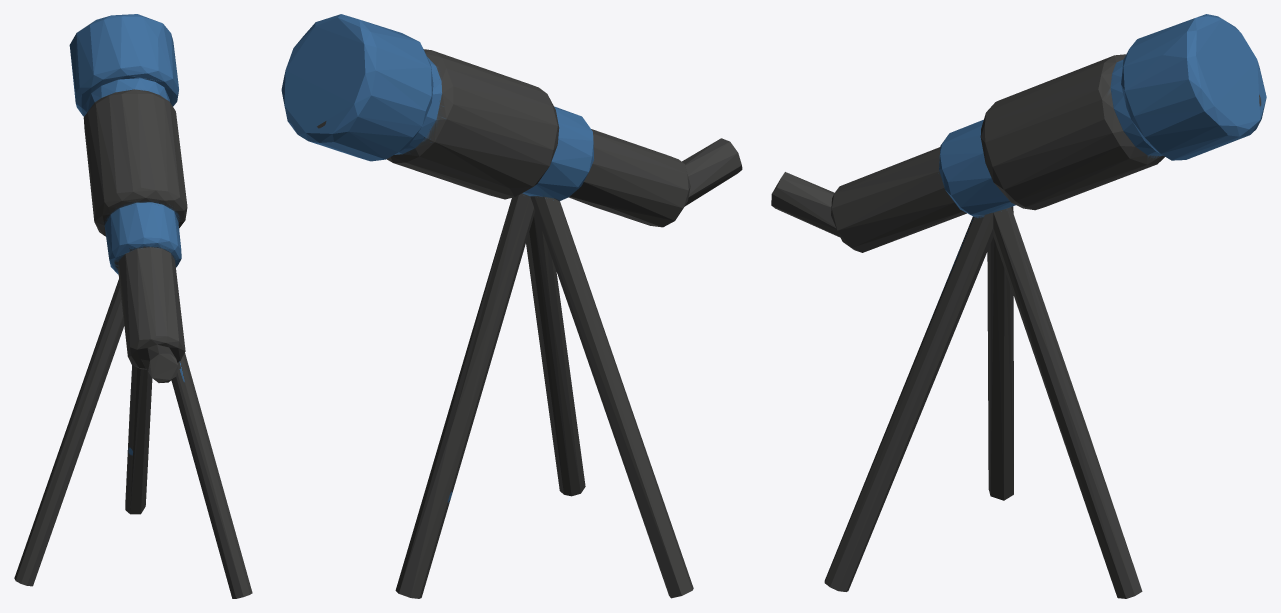
File: teleskop.obj
3 renders of one model, left to right at view 1: azimuth 30°, elevation 25°; view 2: azimuth 150°, elevation 25°; view 3: azimuth 270°, elevation 25°, orthographic. The views are drawn at different scales.
Visible parts, largest first — view 1: 265775_23_06_15_13_12_30_0; view 2: 265775_23_06_15_13_12_30_0; view 3: 265775_23_06_15_13_12_30_0.
Boxes of the visible parts, left/top/right/bottom form: 265775_23_06_15_13_12_30_0: left=14, top=14, right=252, bottom=598; 265775_23_06_15_13_12_30_0: left=281, top=14, right=742, bottom=598; 265775_23_06_15_13_12_30_0: left=771, top=14, right=1266, bottom=598.
Bounding box in the file's own units: 1.05 × 2 × 1.53.
Materials: 1 (1 with a texture image).
